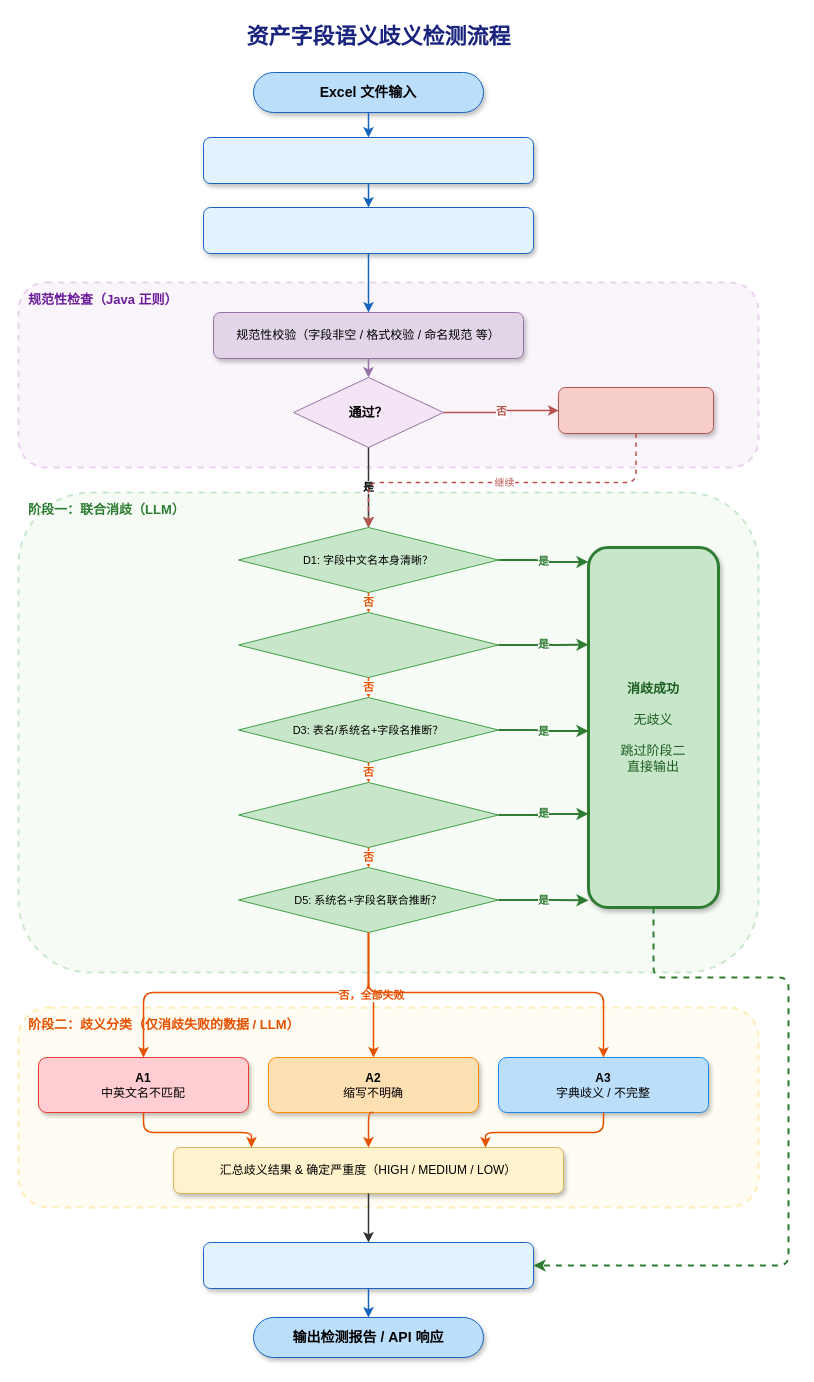
Some shapes in this 814 by 1382 pixel diagram are drawn without their labels. Here are the shapes that lost their labels. From the top down, the centre of each, then its label:
At point 369,161: "Excel 解析 & 列别名映射".
At point 369,231: "数据分批 & 多线程并行处理".
At point 637,411: "打标记录（不拦截）".
At point 368,645: "D2: 中英文名互补消歧？".
At point 368,815: "D4: 字段英文名清晰？".
At point 369,1267: "生成结果 Excel（追加检测结果列）".
